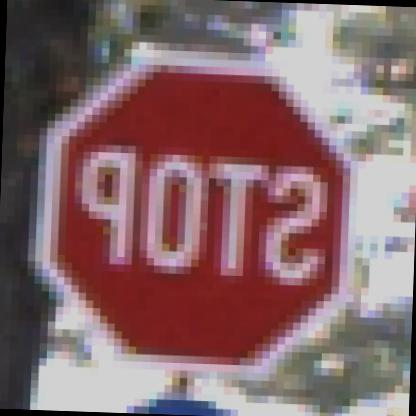stop: (16, 47, 376, 382)
